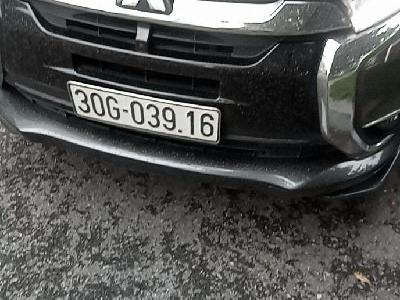lisence: (66, 80, 222, 146)
